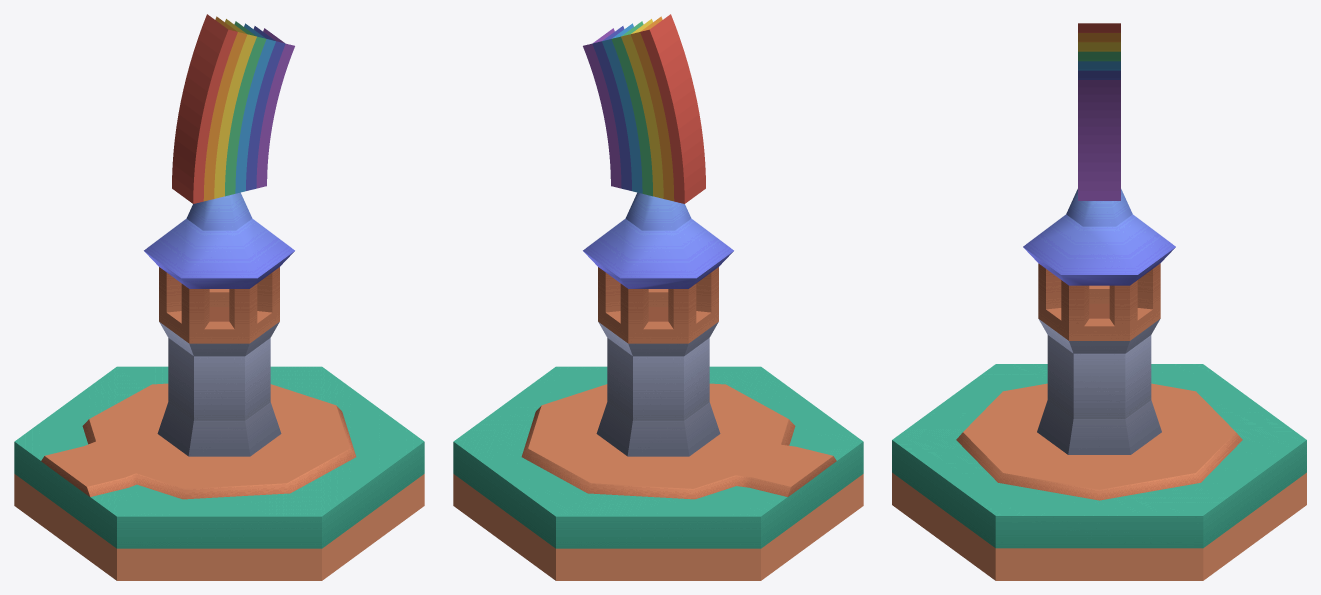
File: grass-path-tower-rainbow.glb
3 views of the same model, side by side, from view 1: azimuth 30°, elevation 25°; view 2: azimuth 150°, elevation 25°; view 3: azimuth 270°, elevation 25° (orthographic).
Visible parts, largest first — view 1: grass, unit-tower, path-square-end, rainbow; view 2: grass, unit-tower, path-square-end, rainbow; view 3: grass, unit-tower, path-square-end, rainbow.
Part boxes in pixels (x1,y1,x2,y2): grass: (14,366,424,580); unit-tower: (144,192,294,456); path-square-end: (41,383,356,499); rainbow: (172,14,294,203); grass: (453,366,863,580); unit-tower: (583,192,733,456); path-square-end: (521,383,836,499); rainbow: (583,14,705,203); grass: (892,364,1306,580); unit-tower: (1023,189,1175,454); path-square-end: (956,383,1242,500); rainbow: (1078,23,1120,200).
Size of the model in its own units: 1 by 1.51 by 1.15.
Materials: 8 (1 with a texture image).
